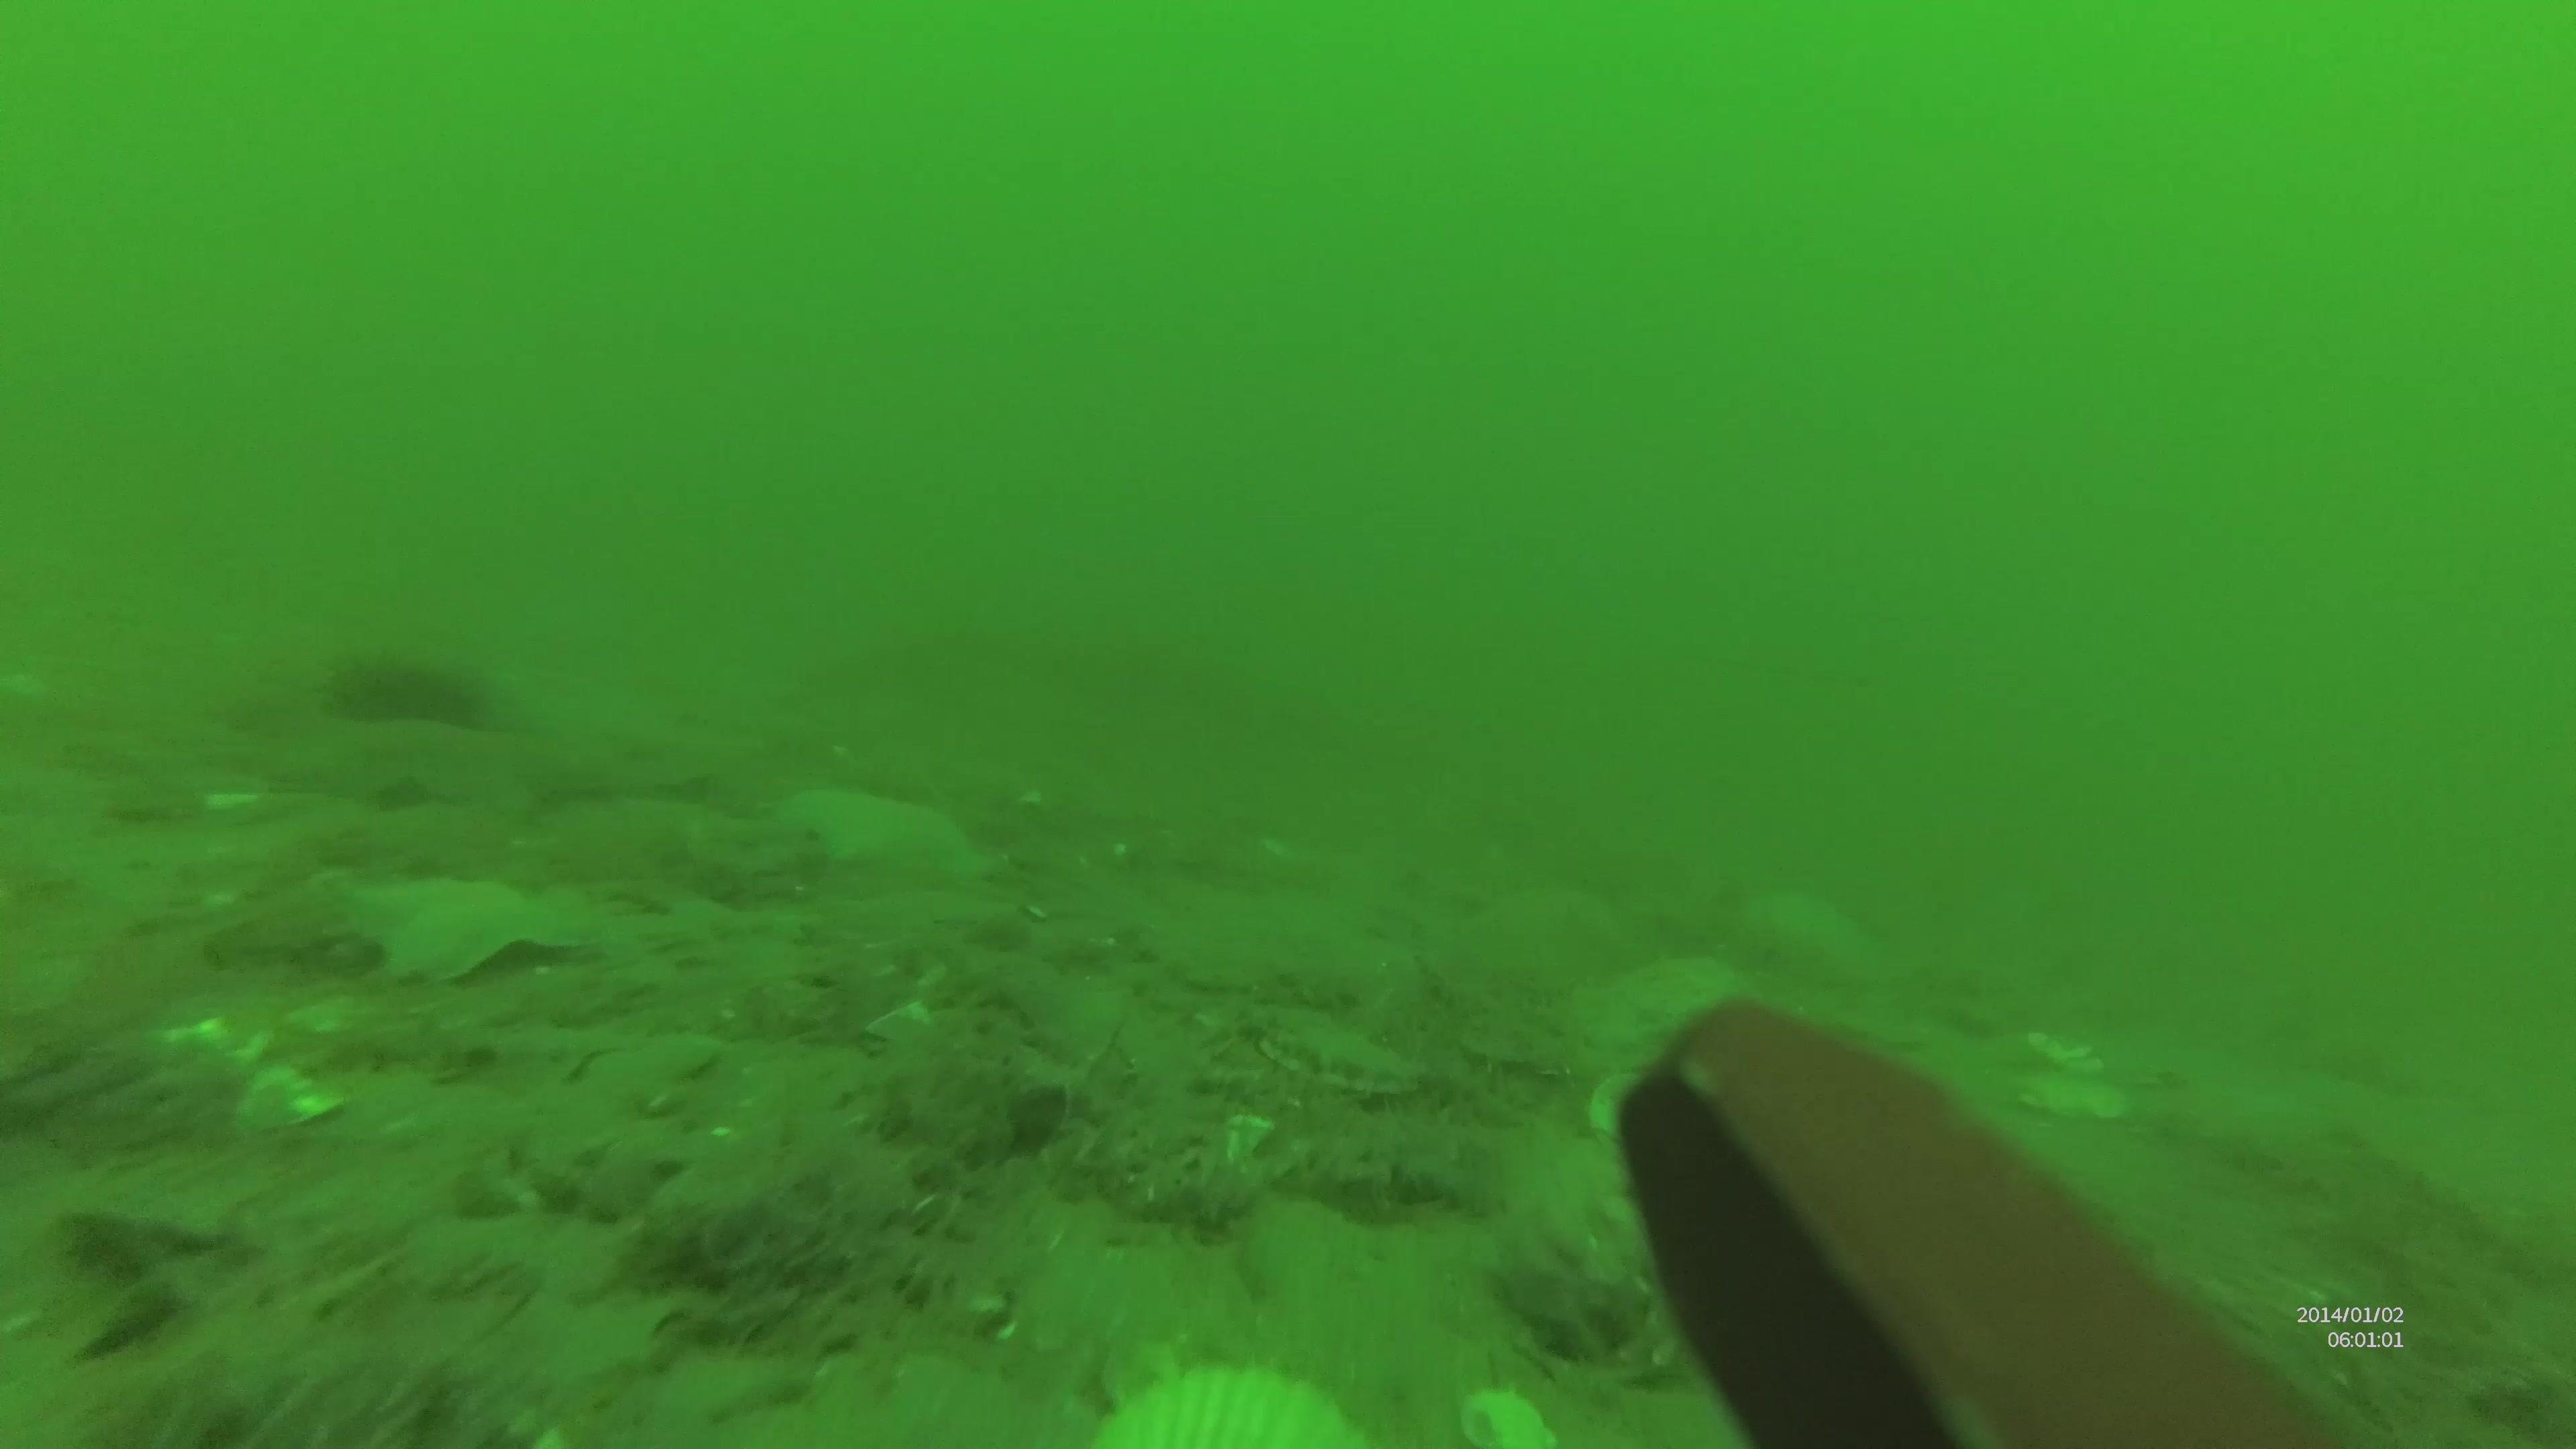scallop: (1088, 1362, 1364, 1449)
starfish: (290, 860, 605, 975)
